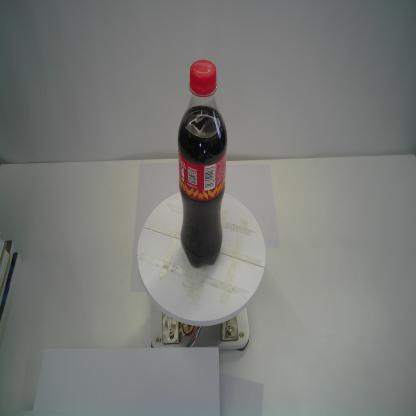Drink: (176, 57, 229, 270)
